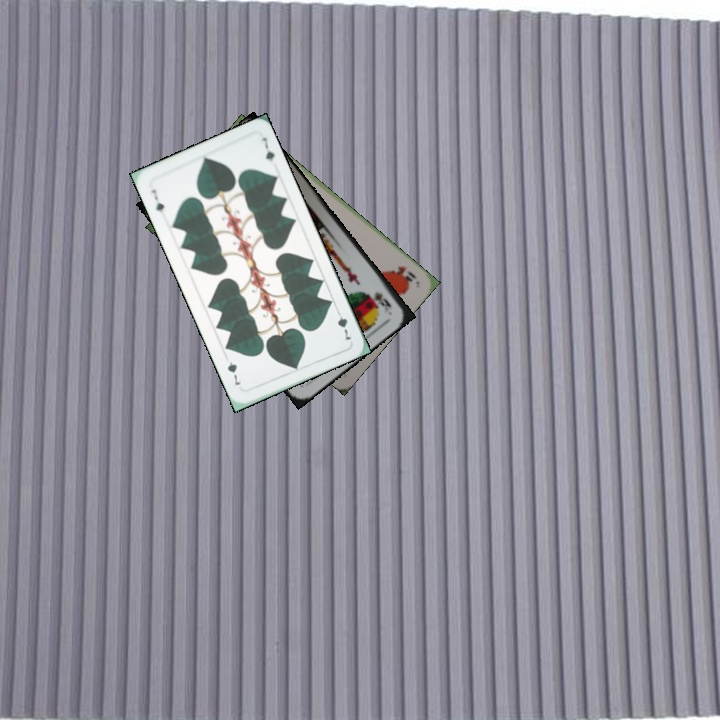G7: (332, 305, 354, 343), (147, 185, 167, 220)
HO: (388, 262, 418, 286)
SK: (370, 287, 394, 315)
